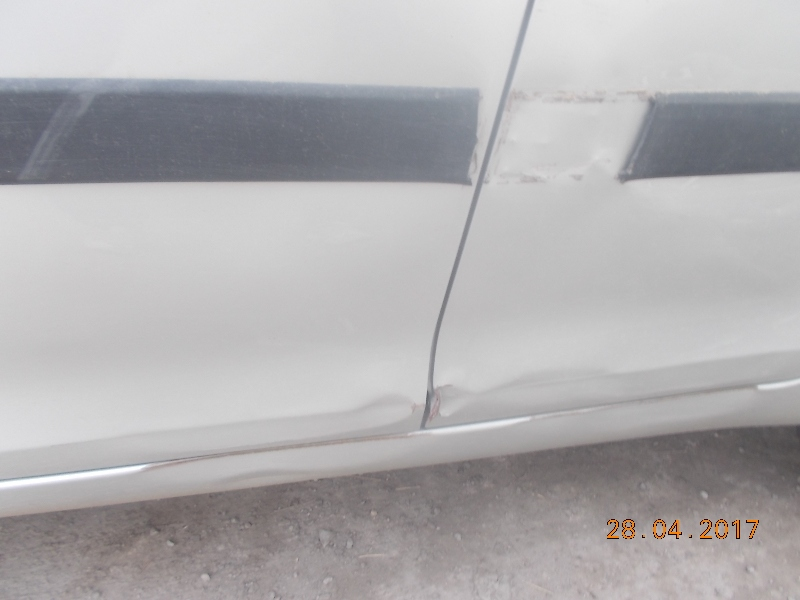Dent: (339, 391, 414, 433), (430, 379, 471, 418)
